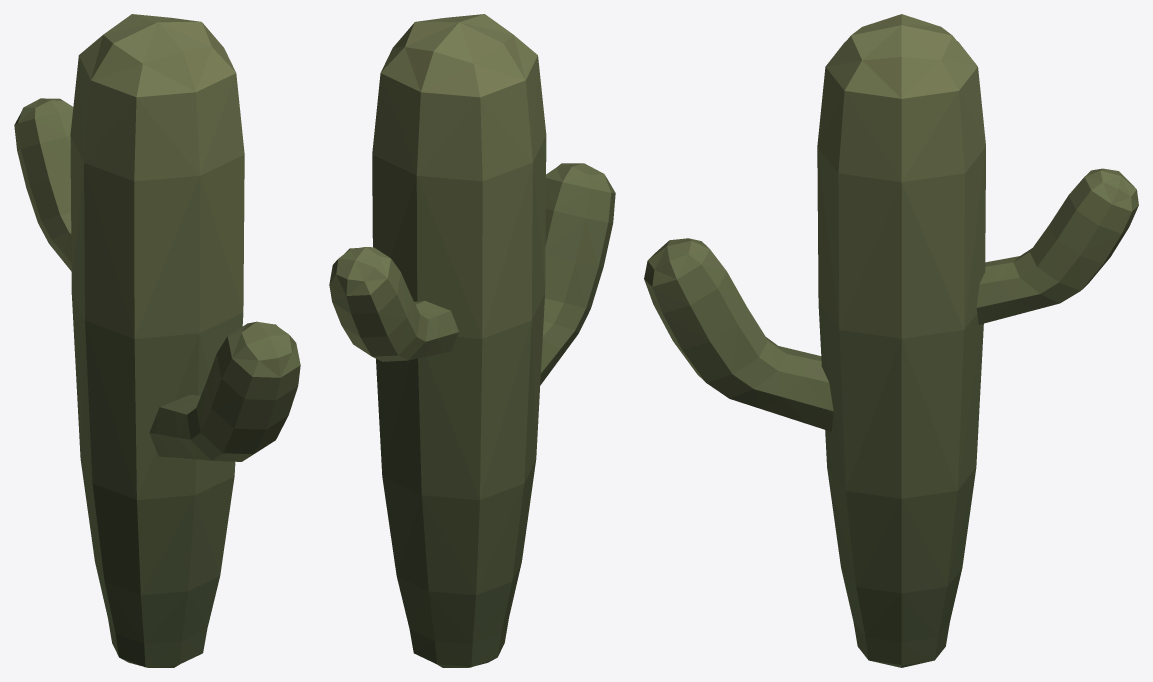
Rendered from DressCactusTall.glb.
3 views of the same model, side by side, from view 1: azimuth 30°, elevation 25°; view 2: azimuth 150°, elevation 25°; view 3: azimuth 270°, elevation 25° (orthographic).
Parts seen in each view (by area): view 1: DressCactusTall; view 2: DressCactusTall; view 3: DressCactusTall.
Boxes of the visible parts, bbox=[...] form: DressCactusTall: bbox=[14, 14, 300, 667]; DressCactusTall: bbox=[329, 14, 615, 667]; DressCactusTall: bbox=[644, 14, 1138, 667].
Size of the model in its own units: 0.6543 by 2.7 by 1.92.
